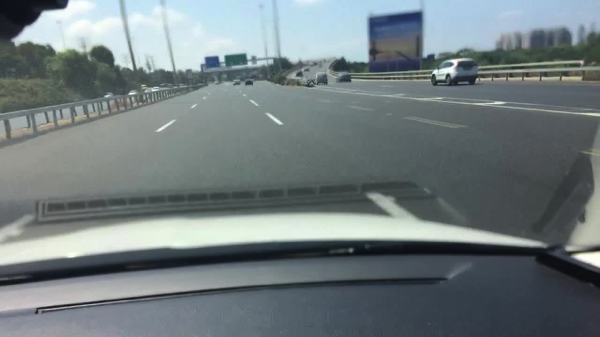car: (431, 59, 477, 87), (314, 73, 328, 85), (337, 72, 351, 83), (103, 92, 114, 98), (245, 79, 253, 86), (232, 79, 240, 86), (214, 72, 221, 80), (152, 86, 161, 92), (128, 90, 138, 95), (296, 71, 303, 77), (144, 88, 152, 92), (303, 67, 309, 72), (141, 84, 147, 88), (143, 87, 149, 91), (317, 59, 323, 63), (318, 63, 323, 67), (313, 61, 317, 66), (309, 63, 315, 66)
traffic sign: (224, 53, 248, 67), (204, 55, 220, 68), (250, 55, 257, 65)
